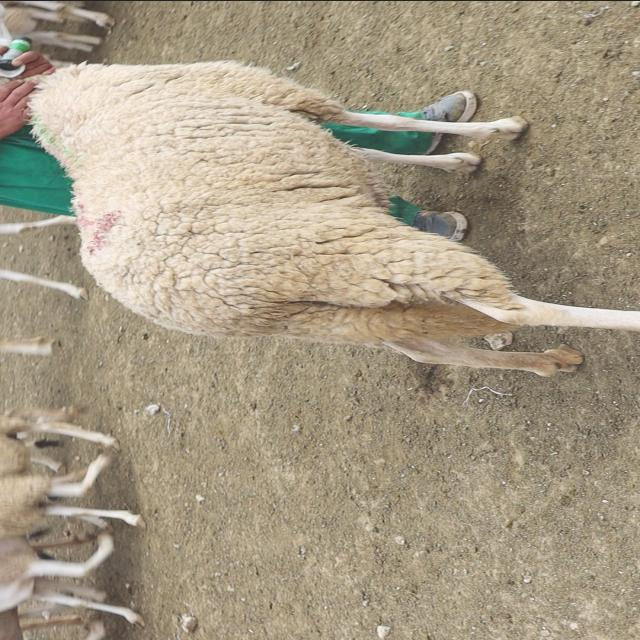Score_3: (29, 60, 639, 375)
